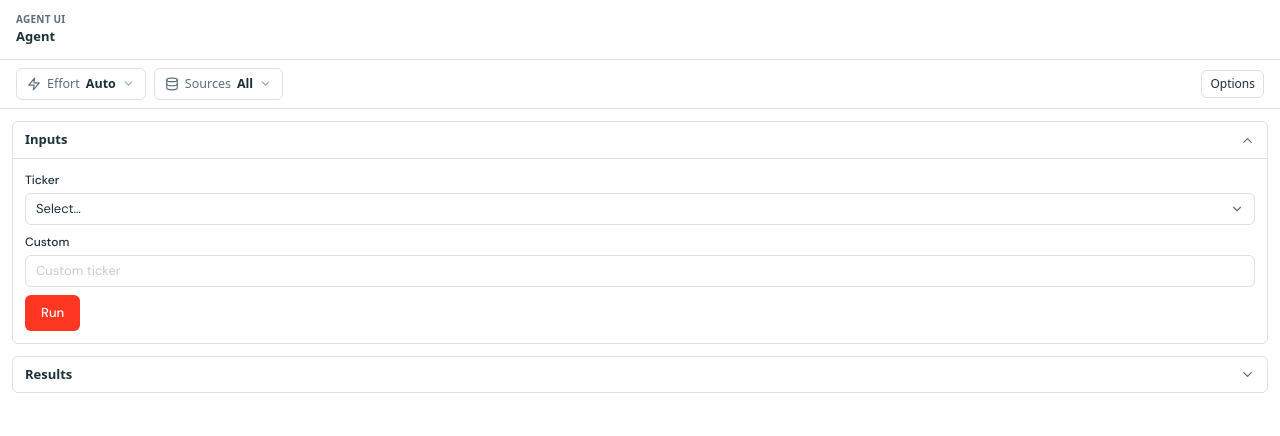
Test: AgentSurfacePanel › blocks with an inline message only when the whole form is empty
Click the button "Run": (53, 313) top-left (25, 295), bottom-right (80, 331)
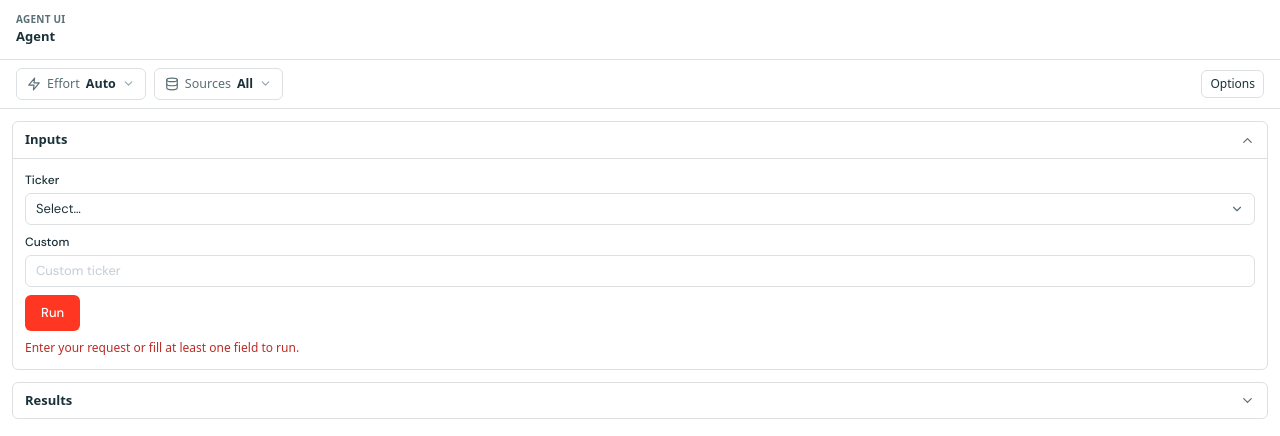
Now the text "Enter your request or fill at least one field to run." is shown, box top-left (25, 339), bottom-right (299, 356)
